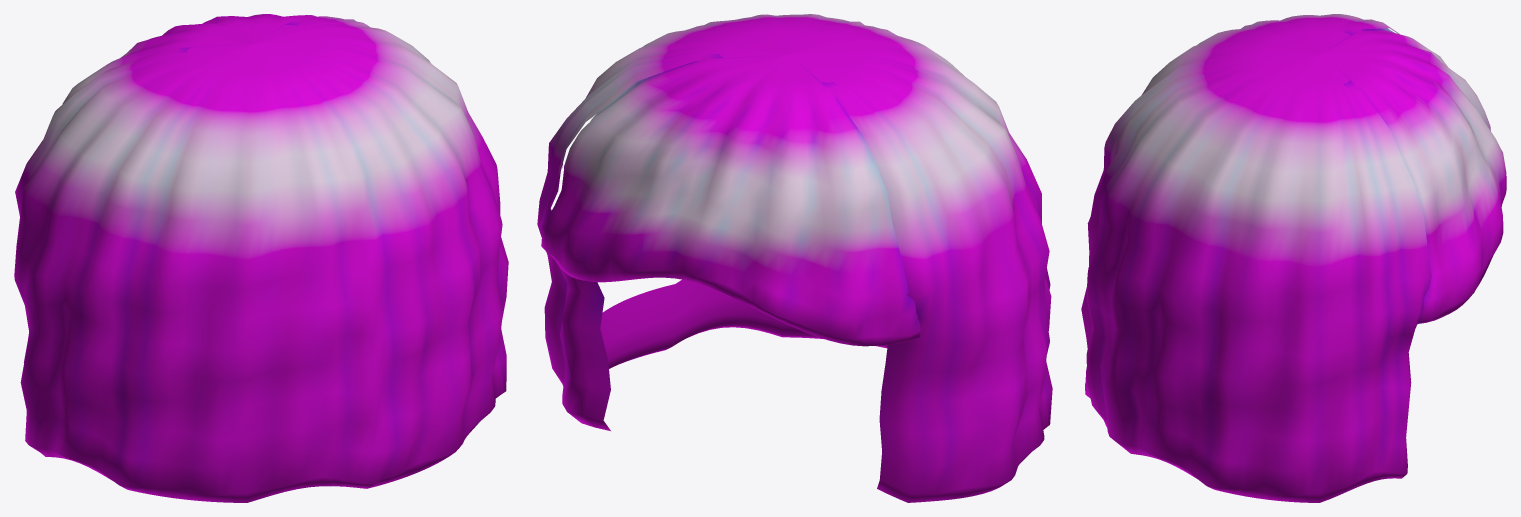
File: curly.glb
3 renders of one model, left to right at view 1: azimuth 30°, elevation 25°; view 2: azimuth 150°, elevation 25°; view 3: azimuth 270°, elevation 25°, orthographic. The views are drawn at different scales.
Visible parts, largest first — view 1: curly; view 2: curly; view 3: curly.
Boxes of the visible parts, x1,y1,x2,y2 form: curly: (14, 14, 508, 502); curly: (537, 14, 1052, 502); curly: (1081, 14, 1506, 502).
Size of the model in its own units: 1.17 by 0.8988 by 0.9863.
